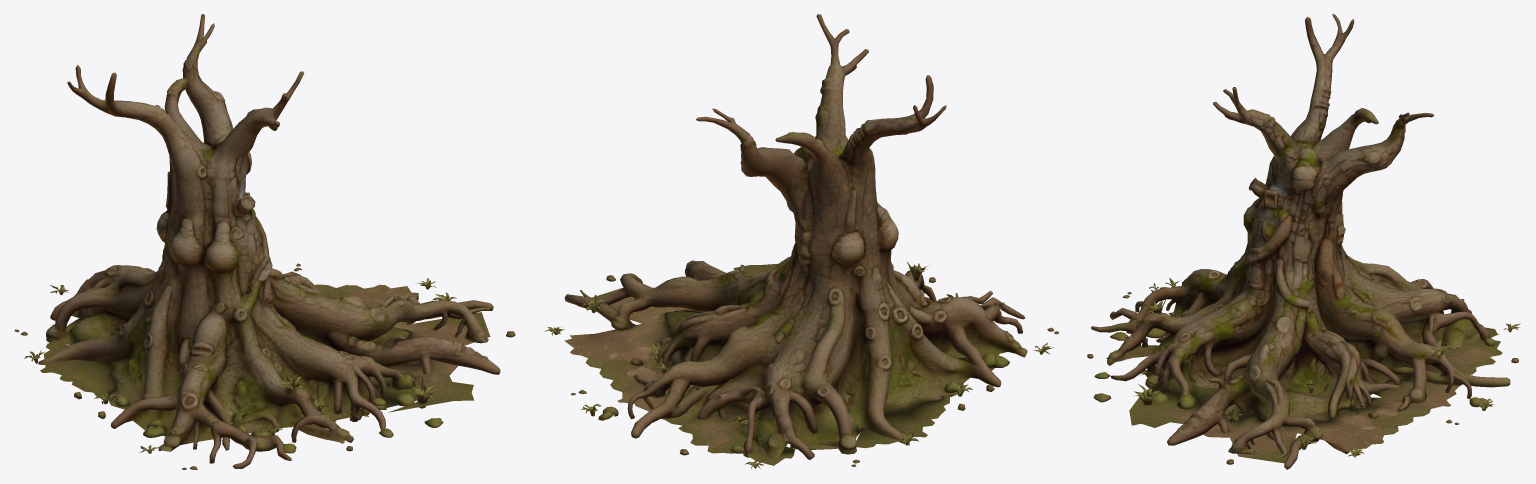
The model's file is jun_giant_surface_roots_a_LOD0.glb.
3 renders of one model, left to right at view 1: azimuth 30°, elevation 25°; view 2: azimuth 150°, elevation 25°; view 3: azimuth 270°, elevation 25°, orthographic. The views are drawn at different scales.
Visible parts, largest first — view 1: tripo_node_d526340f-c0b6-4e44-b6e3-9aaa0535eabd; view 2: tripo_node_d526340f-c0b6-4e44-b6e3-9aaa0535eabd; view 3: tripo_node_d526340f-c0b6-4e44-b6e3-9aaa0535eabd.
Part boxes in pixels (bbox=[...]): tripo_node_d526340f-c0b6-4e44-b6e3-9aaa0535eabd: bbox=[14, 14, 515, 469]; tripo_node_d526340f-c0b6-4e44-b6e3-9aaa0535eabd: bbox=[544, 14, 1058, 469]; tripo_node_d526340f-c0b6-4e44-b6e3-9aaa0535eabd: bbox=[1087, 14, 1520, 469].
Size of the model in its own units: 0.998 by 0.752 by 0.9941.
Materials: 1 (1 with a texture image).
